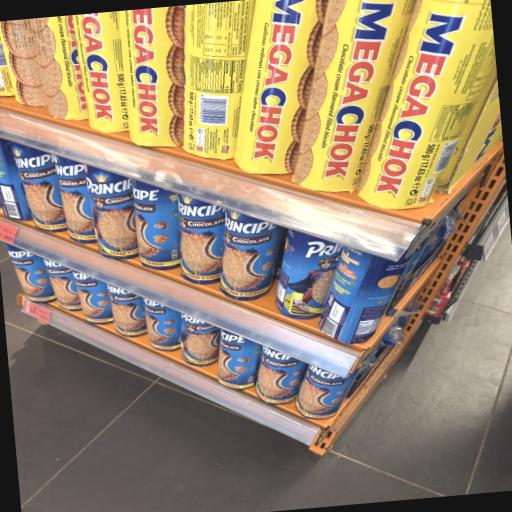prince: (312, 220, 422, 377), (154, 172, 232, 324)
